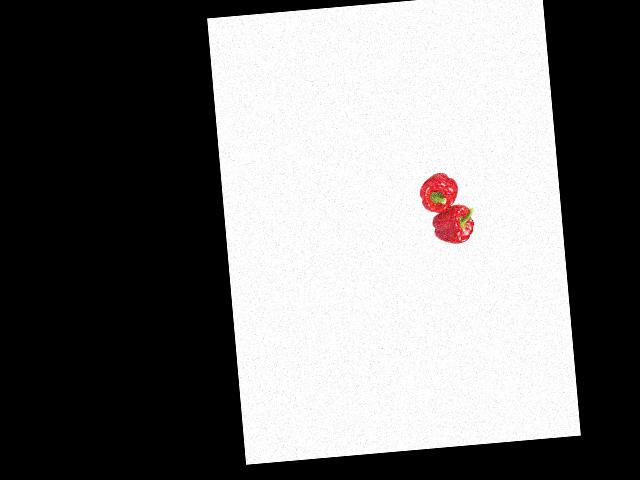bell_pepper: (427, 201, 478, 247)
